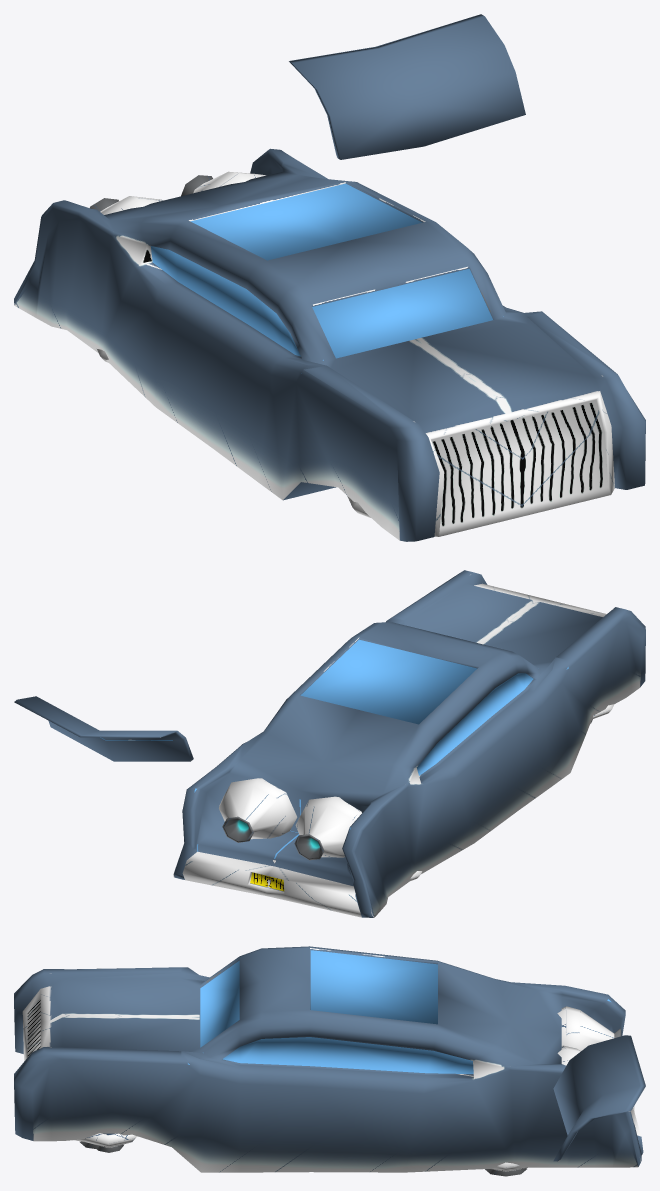
File: carRearEndDamage1.fbx
The picture shows the model from 3 angles, top to bottom: view 1: azimuth 30°, elevation 25°; view 2: azimuth 150°, elevation 25°; view 3: azimuth 270°, elevation 25°; orthographic projection. The views are drawn at different scales.
Visible parts, largest first — view 1: Cube.000, Cube.002; view 2: Cube.000, Cube.002; view 3: Cube.000, Cube.002, Cube.001.
Part boxes in pixels (bbox=[...]): Cube.000: bbox=[14, 148, 645, 541]; Cube.002: bbox=[289, 14, 525, 159]; Cube.000: bbox=[173, 570, 645, 917]; Cube.002: bbox=[14, 696, 193, 761]; Cube.000: bbox=[14, 946, 643, 1176]; Cube.002: bbox=[553, 1035, 645, 1161]; Cube.001: bbox=[84, 1133, 137, 1152].
Size of the model in its own units: 5.93 by 2.4 by 8.59.
